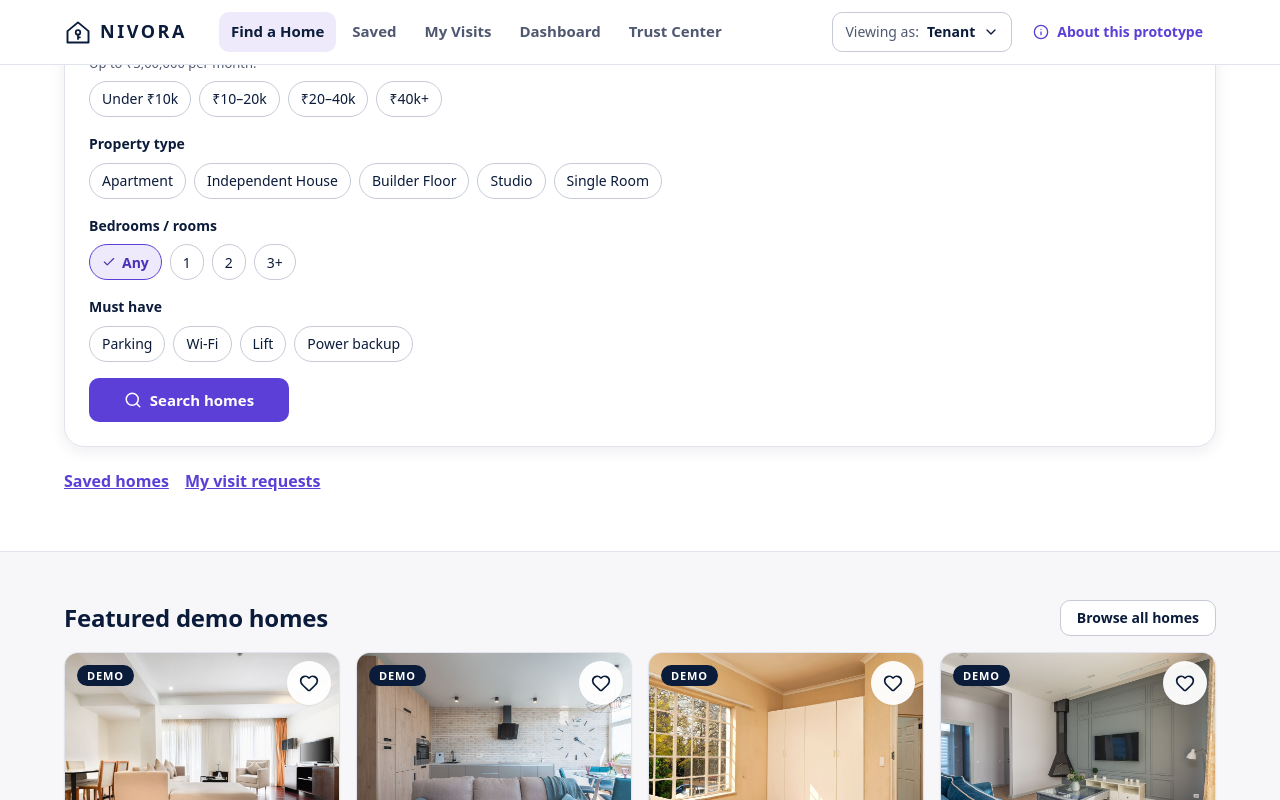
Scenario: T-01 Tenant Home › an empty search is valid and lists every available demo home (AC-05)
(page scrolled)
Click the button "Search homes" at x=189, y=400, box [89,378,289,422]
(page scrolled)
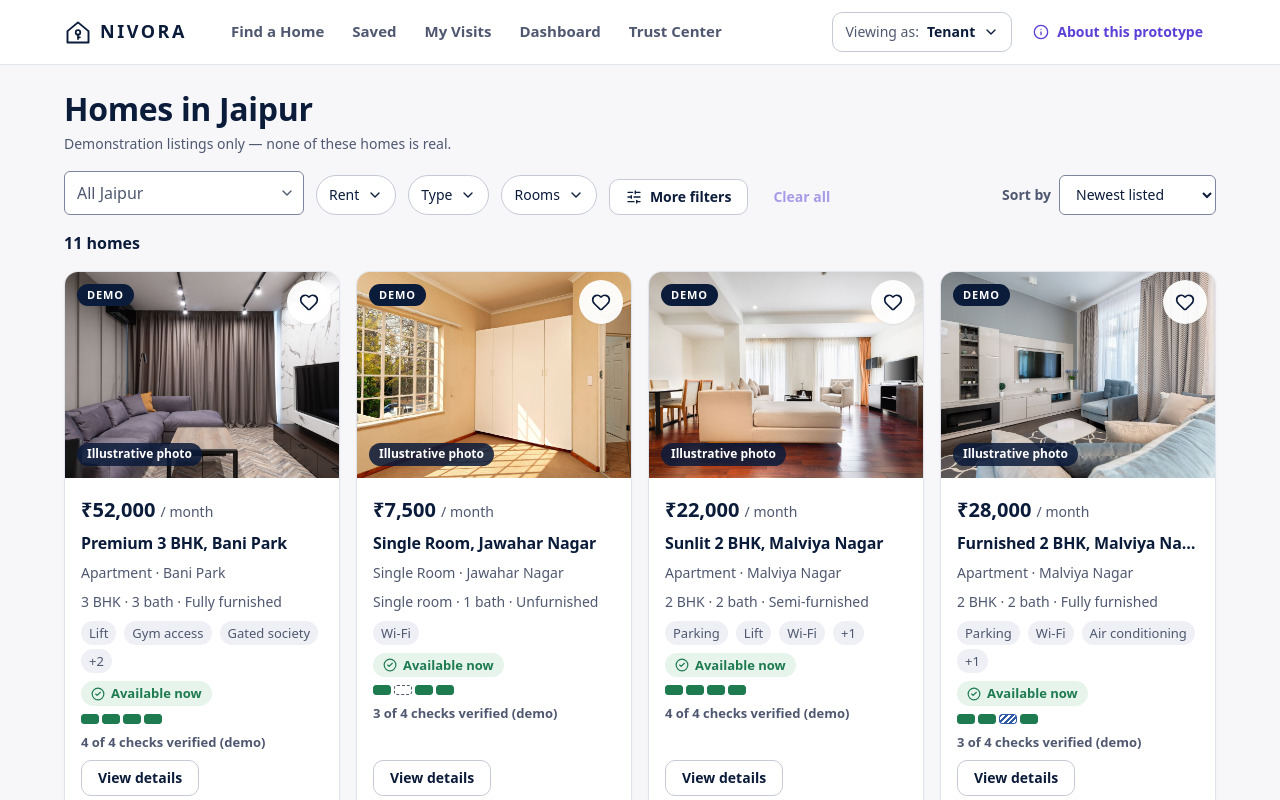
Result: the text with test id "result-count" reads "11 homes" at [64,232,140,254]
